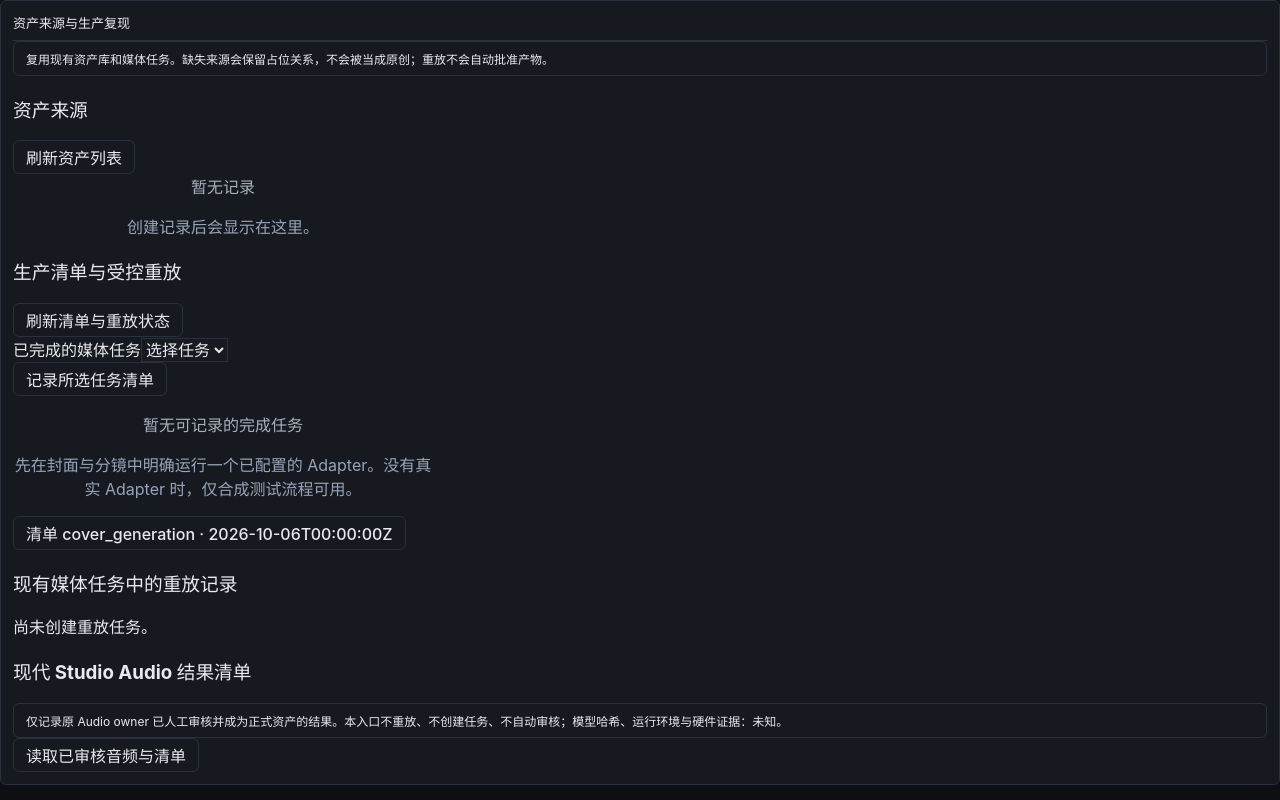
Test case: preserves the existing determinism label and keeps synthetic boundaries explicit (false)
Click the button "清单 cover_generation · 2026-10-06T00:00:00Z" at point(209, 533), box [13,516,406,550]
(page scrolled)
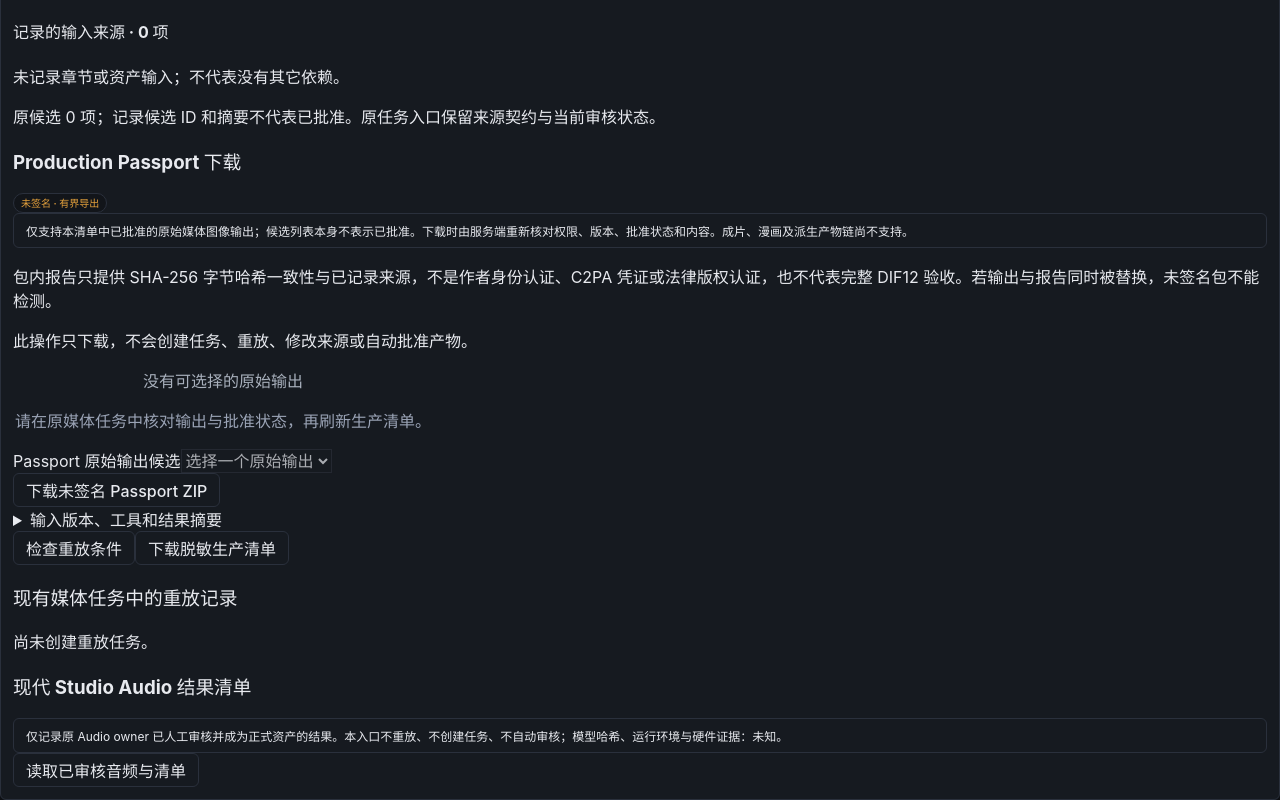
Click the button "检查重放条件" at point(74, 548), box [13,531,135,565]
(page scrolled)
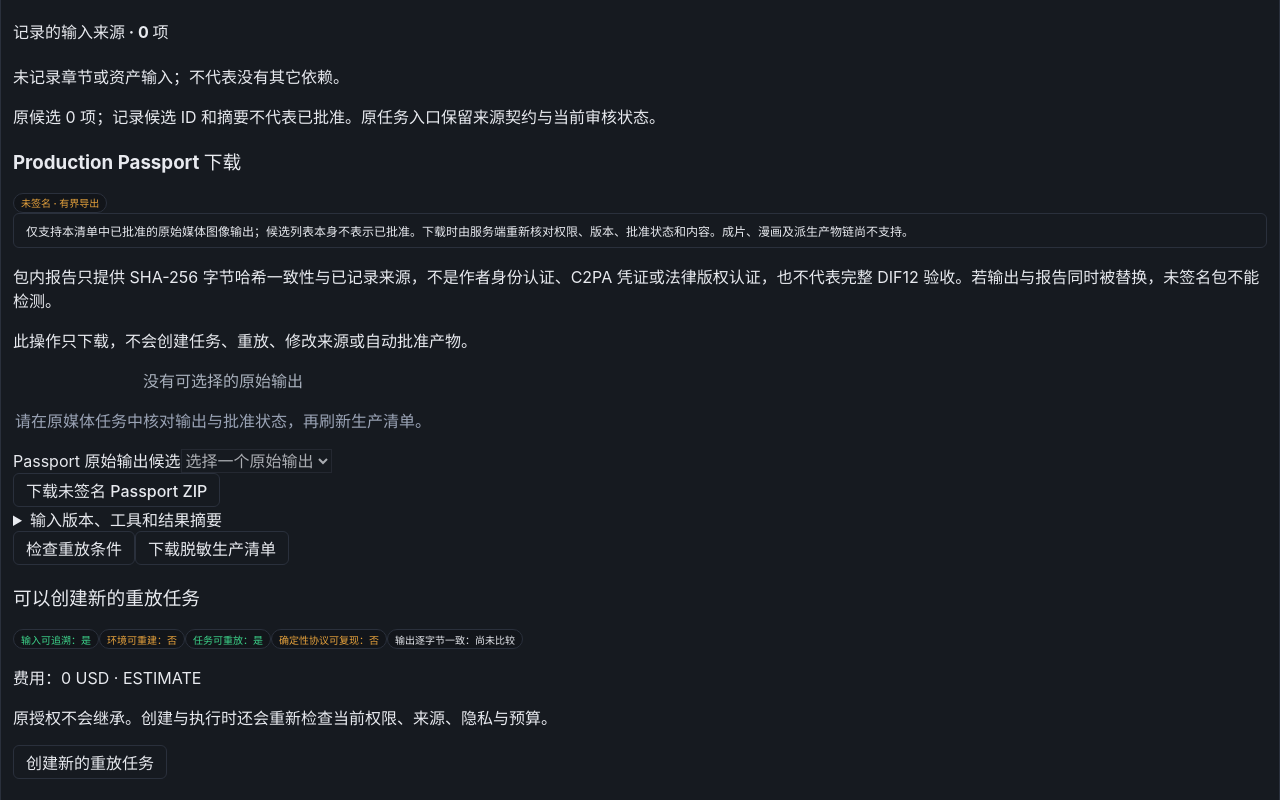
Now the text "输出逐字节一致：尚未比较" is shown, box [387,629,523,649]
